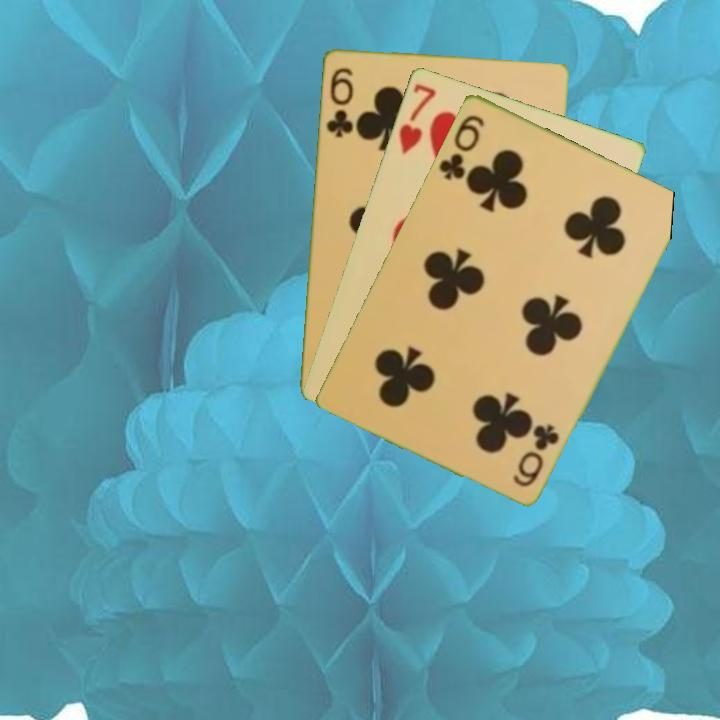6c: (435, 110, 487, 183), (509, 420, 562, 490), (322, 64, 356, 140)
7h: (395, 79, 439, 158)
